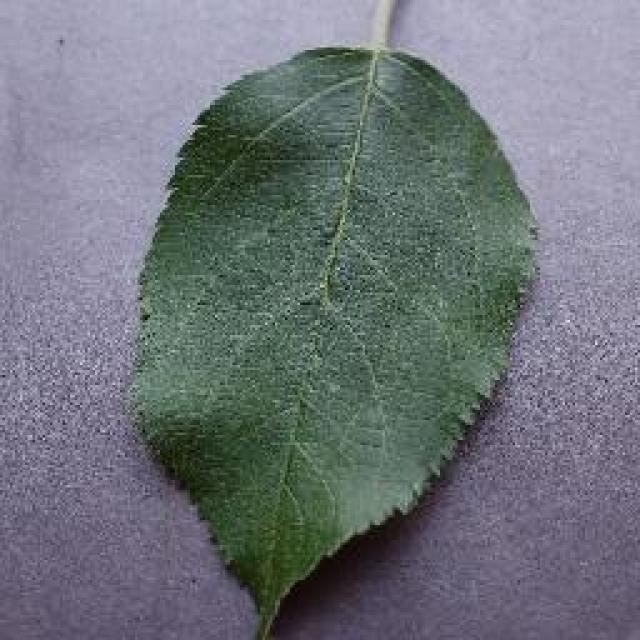apple scab disease: (122, 35, 542, 637)
